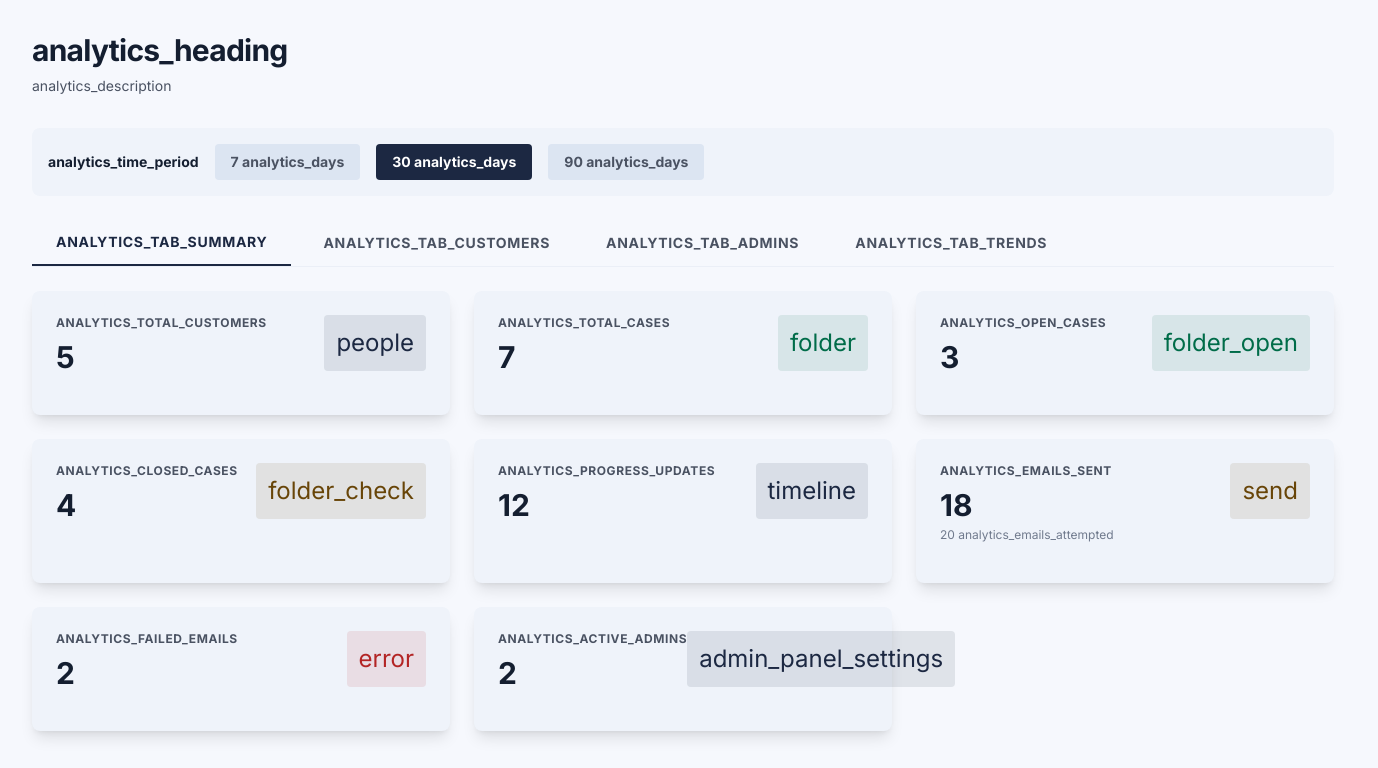
Test case: Analytics component › shows empty admins state
The image size is (1378, 768).
Click the button "analytics_tab_admins": (703, 243) [582,220,823,266]
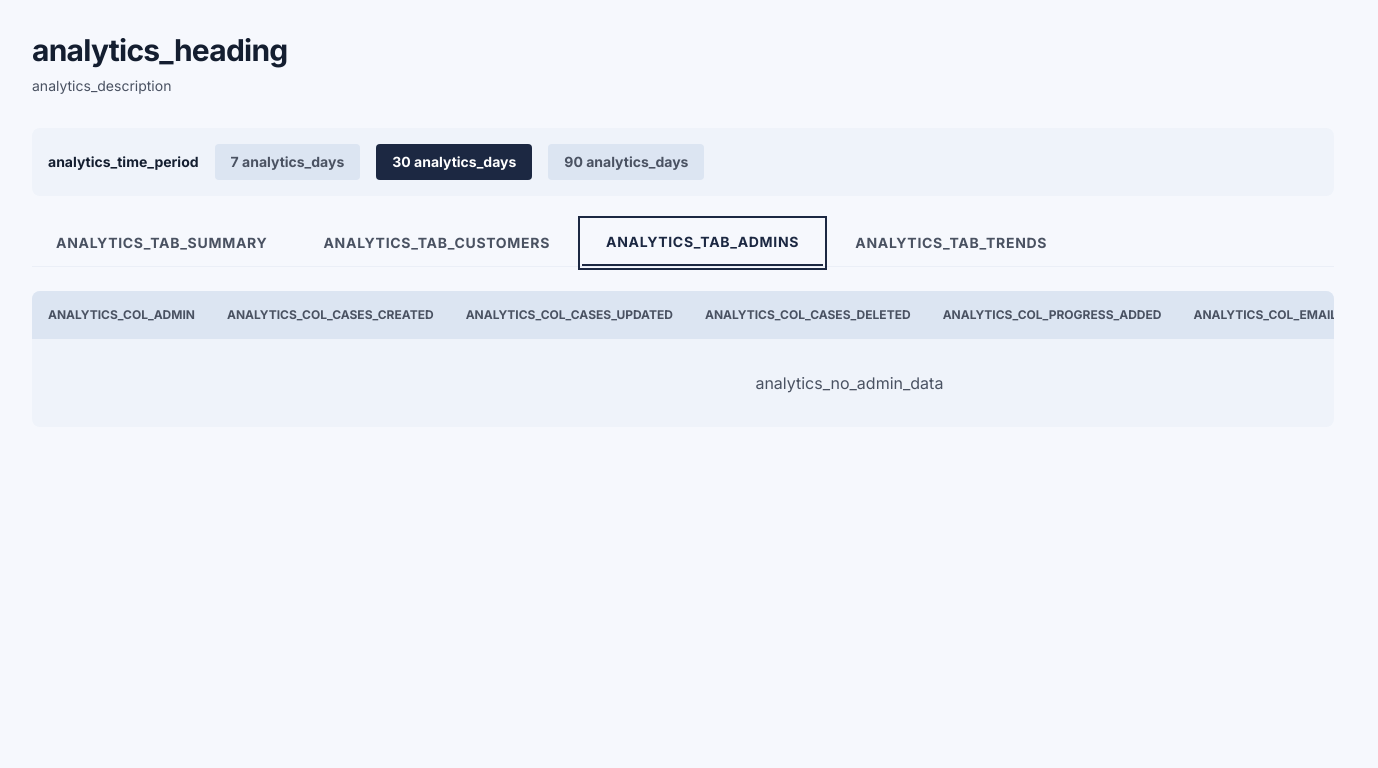
Check: the text "analytics_no_admin_data" is shown, box [32,339,1334,427]
